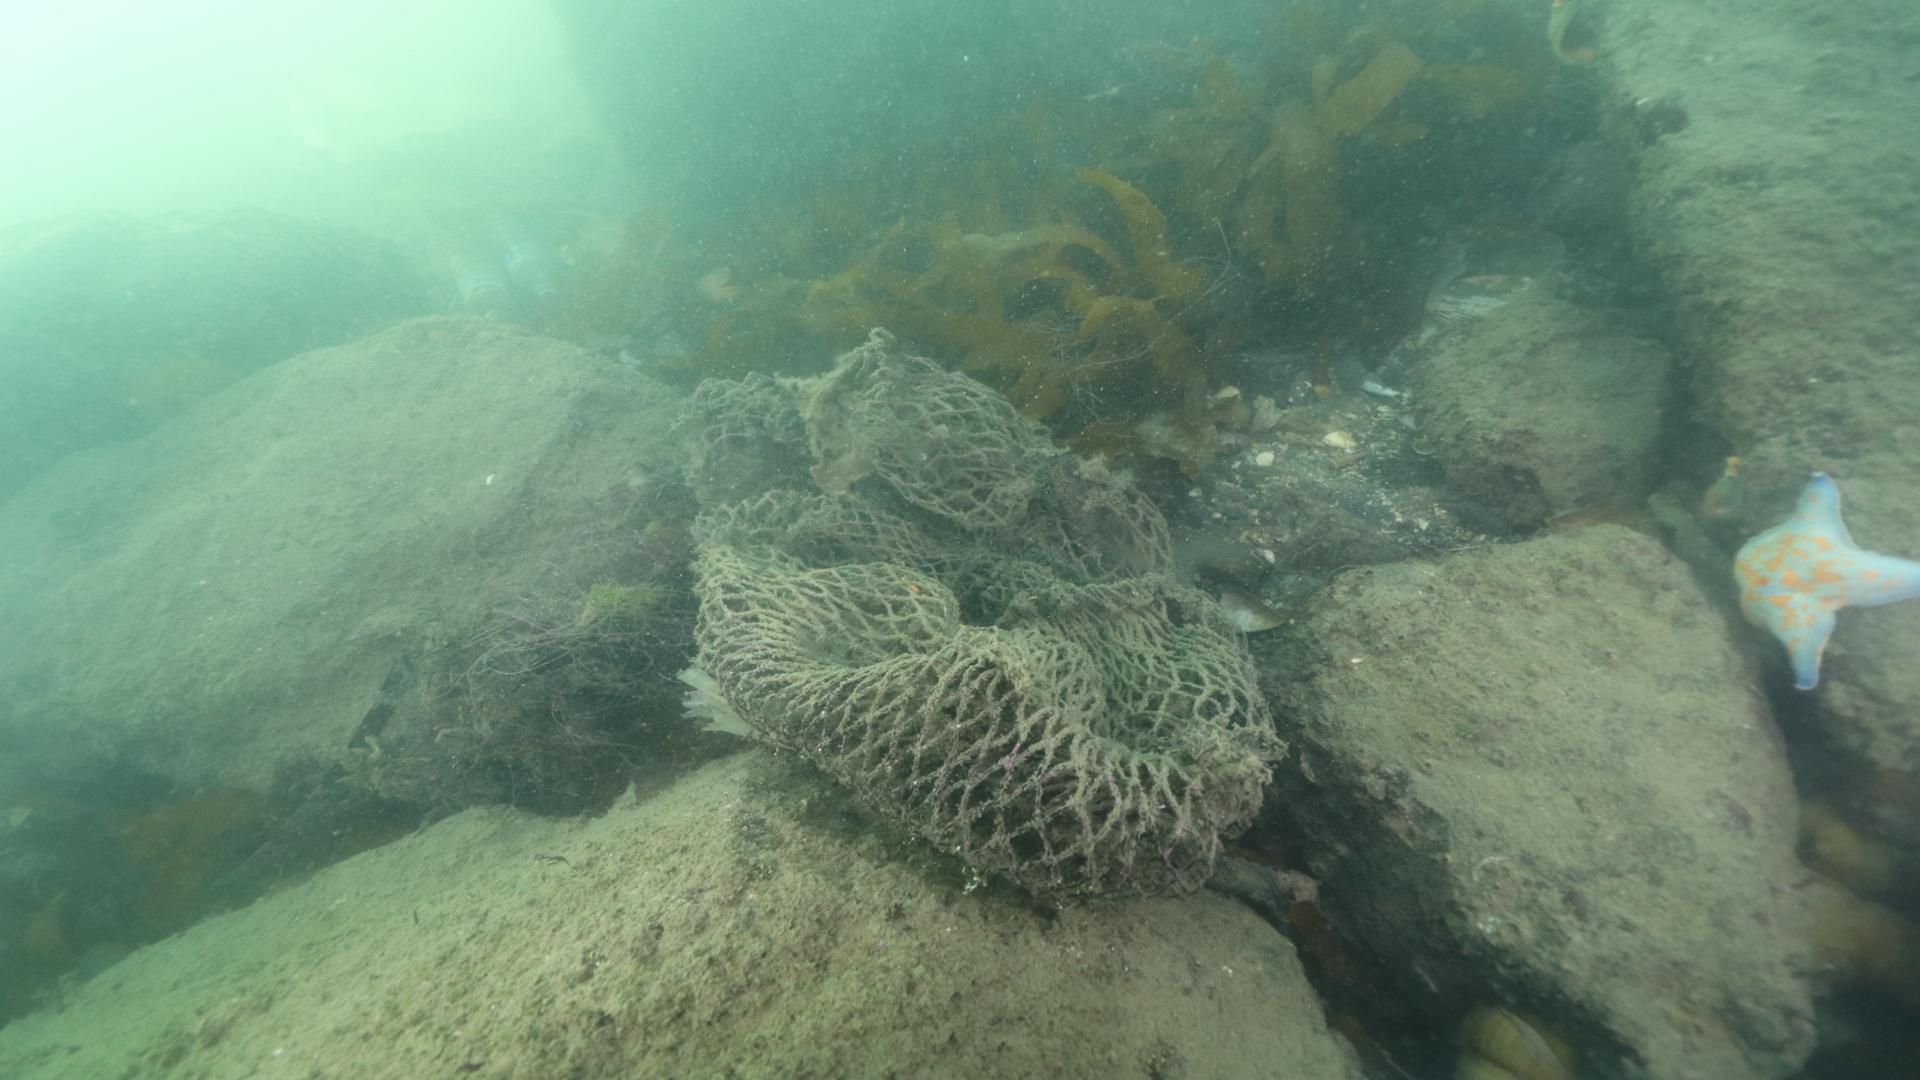fish net: (676, 323, 1287, 902)
